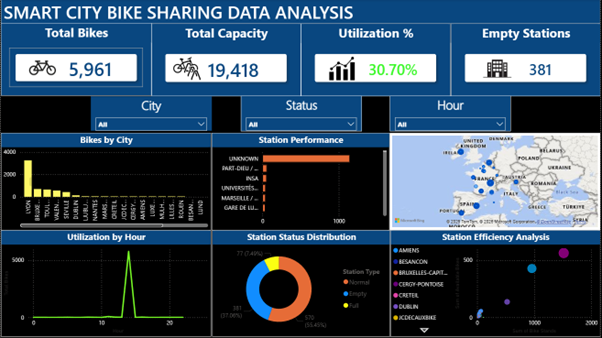

The page's visual inventory and layout, read from the dashboard file:
{"tool":"powerbi","page":{"name":"Page 1","canvas":[1280,720],"ordinal":0},"visuals":[{"type":"textbox","title":"SMART CITY BIKE SHARING DATA ANALYSIS","box":[0,0,1280.3,51.4],"z":0},{"type":"cardVisual","title":"Total Capacity","fields":{"Data":["Data.Total Capacity"]},"box":[321.6,51.4,319.2,155.3],"z":1000},{"type":"cardVisual","title":"Utilization %","fields":{"Data":["Data.Utilization %"]},"box":[640.8,51.4,319.2,155.3],"z":2000},{"type":"cardVisual","title":"Empty Stations","fields":{"Data":["Data.Empty Stations"]},"box":[961.1,51.4,319.2,155.3],"z":3000},{"type":"cardVisual","title":"Total Bikes","fields":{"Data":["Data.Total Bikes"]},"box":[0,50.1,321.6,155.3],"z":4000},{"type":"slicer","title":"City","fields":{"Values":["Data.Contract Name"]},"box":[192,206.7,258,73.4],"z":5000},{"type":"slicer","title":"Status","fields":{"Values":["Data.Status"]},"box":[512.4,205.4,258,75.8],"z":6000},{"type":"slicer","title":"Hour","fields":{"Values":["Data.Hour"]},"box":[830.3,205.4,258,75.8],"z":7000},{"type":"columnChart","title":"Bikes by City","fields":{"Y":["Data.Total Bikes"],"Category":["Data.Contract Name"]},"box":[0,284.9,448.8,207.9],"z":8000},{"type":"clusteredBarChart","title":"Station Performance","fields":{"Category":["Data.Name"],"Y":["Sum(Data.Available Bikes)"]},"box":[450,284.9,380.3,207.9],"z":9000},{"type":"map","fields":{"Y":["Data.Latitude"],"X":["Data.Longitude"],"Size":["Sum(Data.Available Bikes)"]},"box":[830.3,284.9,450,207.9],"z":10000},{"type":"lineChart","title":"Utilization by Hour","fields":{"Category":["Data.Hour"],"Y":["Data.Total Bikes"]},"box":[0,492.8,448.8,227.4],"z":11000},{"type":"donutChart","title":"Station Status Distribution","fields":{"Category":["Data.Station Type"],"Y":["CountNonNull(Data.Name)"]},"box":[451.2,492.8,380.3,227.4],"z":12000},{"type":"scatterChart","title":"Station Efficiency Analysis","fields":{"X":["Sum(Data.Bike Stands)"],"Y":["Sum(Data.Available Bikes)"],"Category":["Data.Name"],"Series":["Data.Contract Name"],"Size":["Sum(Data.Available Bikes)"]},"box":[831.5,492.8,448.8,227.4],"z":13000}]}

Visuals, with their boxes in screenshot pixels (x1, y1, x2, y2), scaled from the page's 1280x720 canvas onto the 602x338 screenshot:
"SMART CITY BIKE SHARING DATA ANALYSIS" textbox: box=[0, 0, 601, 24]
"Total Capacity" cardVisual: box=[151, 24, 301, 97]
"Utilization %" cardVisual: box=[301, 24, 452, 97]
"Empty Stations" cardVisual: box=[452, 24, 601, 97]
"Total Bikes" cardVisual: box=[0, 24, 151, 96]
"City" slicer: box=[90, 97, 212, 131]
"Status" slicer: box=[241, 96, 362, 132]
"Hour" slicer: box=[391, 96, 512, 132]
"Bikes by City" columnChart: box=[0, 134, 211, 231]
"Station Performance" clusteredBarChart: box=[212, 134, 391, 231]
map - Data.Latitude x Data.Longitude: box=[391, 134, 601, 231]
"Utilization by Hour" lineChart: box=[0, 231, 211, 337]
"Station Status Distribution" donutChart: box=[212, 231, 391, 337]
"Station Efficiency Analysis" scatterChart: box=[391, 231, 601, 337]
